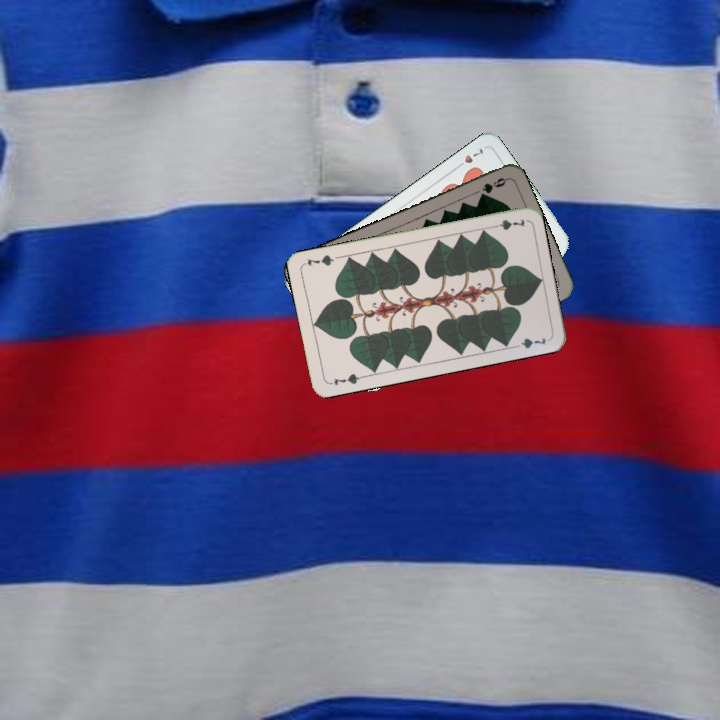G7: (325, 370, 366, 388), (487, 215, 527, 233)
G9: (478, 174, 510, 196)
H7: (452, 144, 486, 172)
